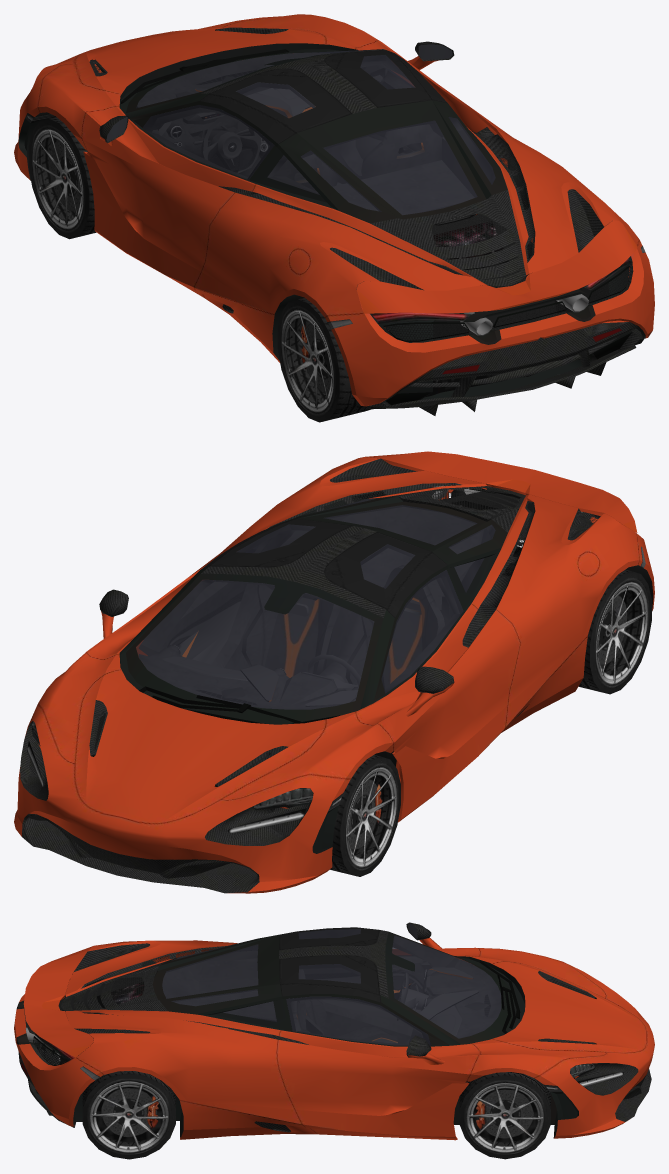
File: mclaren.glb
3 renders of one model, top to bottom at view 1: azimuth 30°, elevation 25°; view 2: azimuth 150°, elevation 25°; view 3: azimuth 270°, elevation 25°, orthographic. The views are drawn at different scales.
Visible parts, largest first — view 1: body, wheel1, wheel3; view 2: body, wheel3, wheel1; view 3: body, wheel0, wheel2.
Boxes of the visible parts, x1,y1,x2,y2 form: body: (14, 14, 654, 415); wheel1: (277, 297, 370, 422); wheel3: (28, 117, 96, 239); body: (14, 451, 654, 893); wheel3: (330, 755, 400, 876); wheel1: (578, 569, 651, 694); body: (14, 922, 654, 1140); wheel0: (82, 1071, 175, 1159); wheel2: (459, 1072, 550, 1159).
Size of the model in its own units: 2.15 by 1.19 by 4.54.
Materials: 11 (8 with a texture image).
